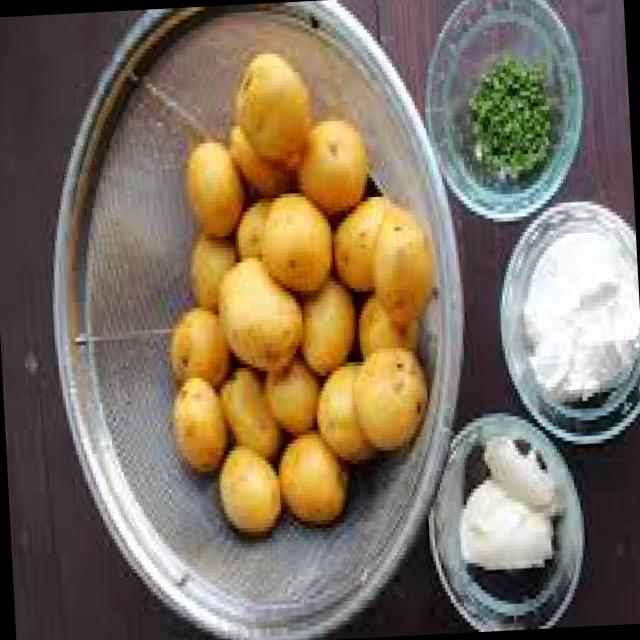Potato: (238, 45, 316, 188), (290, 103, 372, 237), (216, 255, 306, 374), (354, 328, 428, 472), (371, 193, 441, 334), (322, 182, 400, 298), (289, 268, 361, 382), (312, 356, 374, 482), (278, 422, 344, 539), (213, 441, 286, 538), (180, 149, 248, 249), (176, 216, 246, 313), (257, 192, 326, 289), (166, 372, 230, 476), (159, 310, 232, 396), (212, 371, 276, 469), (348, 304, 419, 377), (263, 356, 321, 438)
